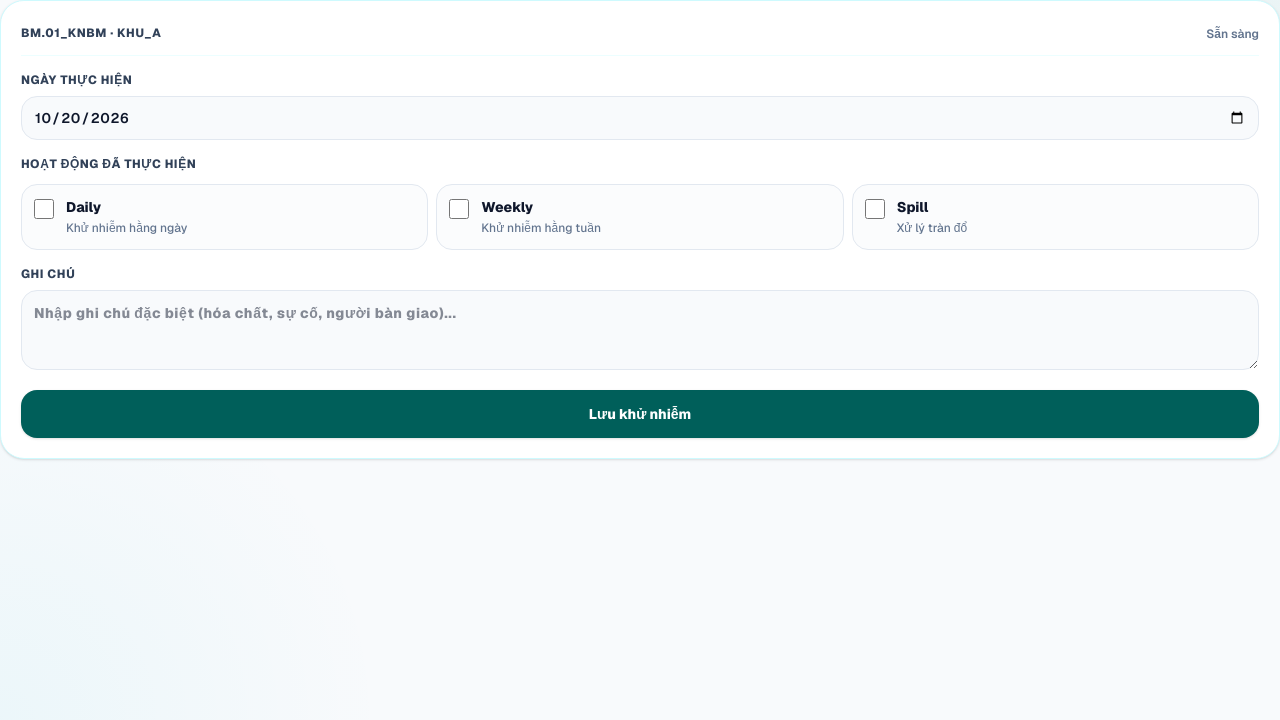
it: Task 3: BM01_KNBM Decontamination Save Reliability › sets status to dirty when user toggles an activity checkbox
This screenshot has width=1280, height=720.
Click the checkbox labelled "Daily Khử nhiễm hằng ngày".
click(44, 209)  # box [34,199,54,219]
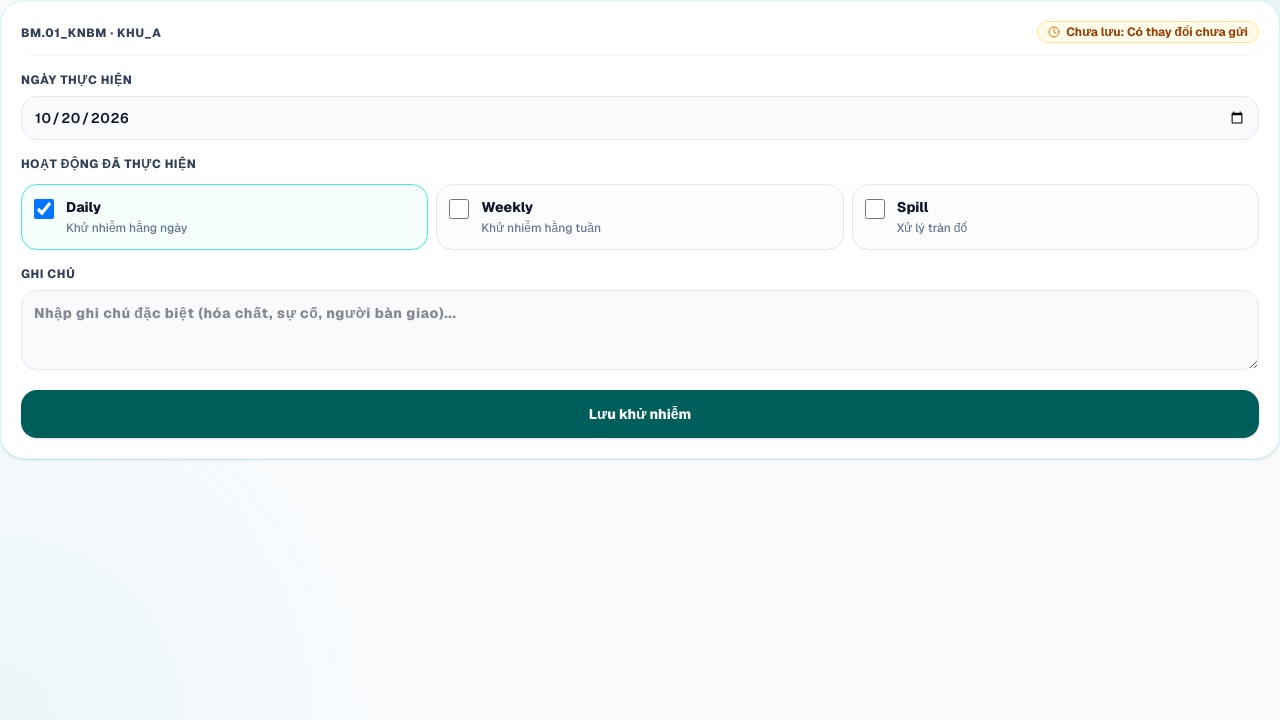
Check: the text "Chưa lưu: Có thay đổi chưa gửi" is shown, box [1037,21,1259,43]
